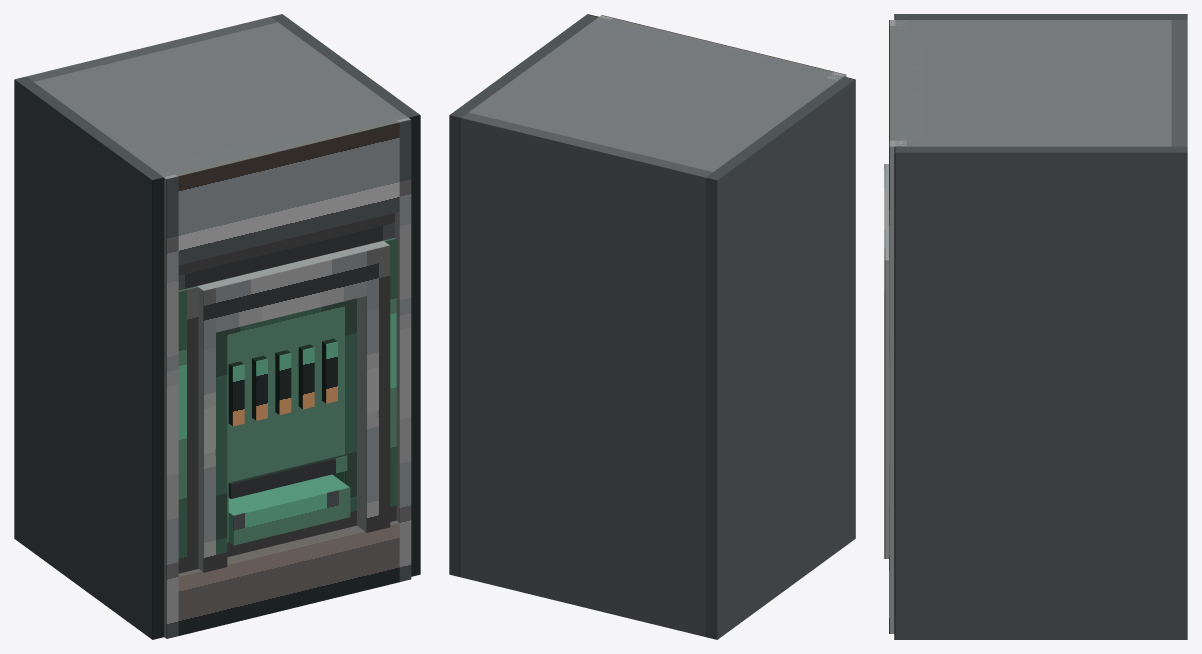
Rendered from CMU3DVendorCassettesCloud.glb.
3 renders of one model, left to right at view 1: azimuth 30°, elevation 25°; view 2: azimuth 150°, elevation 25°; view 3: azimuth 270°, elevation 25°, orthographic. The views are drawn at different scales.
Visible parts, largest first — view 1: left full-depth cabinet side, roof, large plain upper sign original face, green cassette selector backing original face, lower silver plinth original face, silver inner top rail original face, left silver face rail original face, left full-depth cabinet side original face, right silver face rail original face, inner left silver rail original face, inner right silver rail original face, left green cabinet trim original face (+21 smaller); view 2: rear shell, left full-depth cabinet side, roof, right full-depth cabinet side, large plain upper sign; view 3: right full-depth cabinet side, roof, large plain upper sign, right silver face rail, rear shell, left full-depth cabinet side, inner right silver rail, right full-depth cabinet side original face, silver inner top rail, inner right silver rail original face, right silver face rail original face.
Part boxes in pixels (x1,y1,x2,y2): left full-depth cabinet side: [14, 76, 163, 639]; roof: [34, 22, 407, 177]; large plain upper sign original face: [178, 122, 399, 265]; green cassette selector backing original face: [227, 298, 356, 482]; lower silver plinth original face: [178, 522, 399, 635]; silver inner top rail original face: [203, 245, 390, 335]; left silver face rail original face: [166, 176, 178, 638]; left full-depth cabinet side original face: [152, 177, 164, 639]; right silver face rail original face: [399, 119, 411, 581]; inner left silver rail original face: [203, 330, 227, 572]; inner right silver rail original face: [366, 290, 390, 532]; left green cabinet trim original face: [178, 287, 198, 573]; rear shell: [461, 112, 712, 636]; left full-depth cabinet side: [705, 77, 854, 639]; roof: [469, 17, 842, 171]; right full-depth cabinet side: [449, 14, 598, 577]; large plain upper sign: [598, 18, 833, 77]; right full-depth cabinet side: [895, 146, 1187, 639]; roof: [895, 20, 1171, 146]; large plain upper sign: [890, 26, 924, 140]; right silver face rail: [890, 140, 906, 633]; rear shell: [1171, 20, 1187, 146]; left full-depth cabinet side: [895, 14, 1187, 19]; inner right silver rail: [885, 307, 888, 558]; right full-depth cabinet side original face: [894, 146, 895, 639]; silver inner top rail: [885, 164, 888, 307]; inner right silver rail original face: [884, 307, 885, 558]; right silver face rail original face: [889, 140, 889, 633].
Size of the model in its own units: 0.7188 by 1.18 by 0.664.
Materials: 34 (18 with a texture image).
